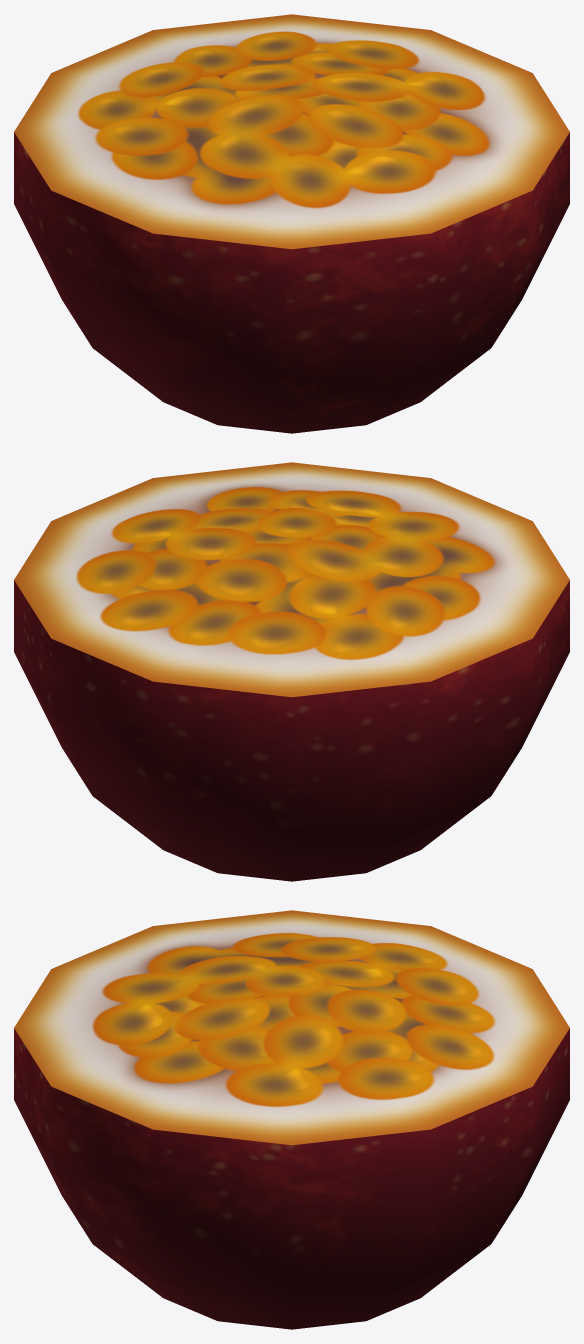
File: PassionFruit_Red_Half.fbx
3 renders of one model, top to bottom at view 1: azimuth 30°, elevation 25°; view 2: azimuth 150°, elevation 25°; view 3: azimuth 270°, elevation 25°, orthographic.
Parts seen in each view (by area): view 1: PassionFruit_Red_Half; view 2: PassionFruit_Red_Half; view 3: PassionFruit_Red_Half.
Part boxes in pixels (<box>): PassionFruit_Red_Half: <box>14,14,569,433</box>; PassionFruit_Red_Half: <box>14,462,569,881</box>; PassionFruit_Red_Half: <box>14,910,569,1329</box>.
Size of the model in its own units: 31.03 by 19.19 by 31.03.
1 material, 1 textured.
